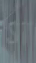Stop: (4, 4, 35, 59)
